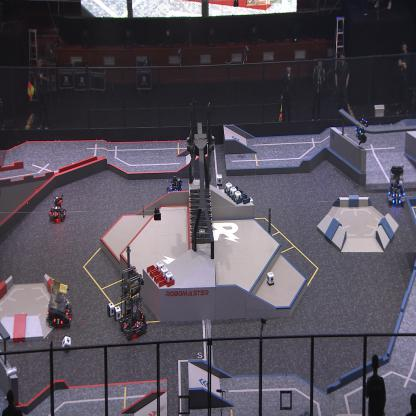car: (118, 265, 148, 338), (45, 278, 72, 330), (387, 164, 405, 206), (49, 194, 67, 222), (166, 174, 183, 197)
